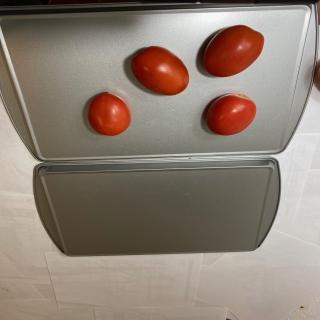Tomato: (203, 24, 264, 78), (131, 45, 189, 96), (206, 92, 257, 136), (87, 91, 131, 136)
